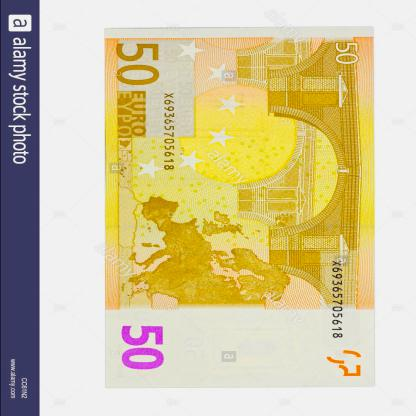euro_banknote: (61, 74, 416, 343)
